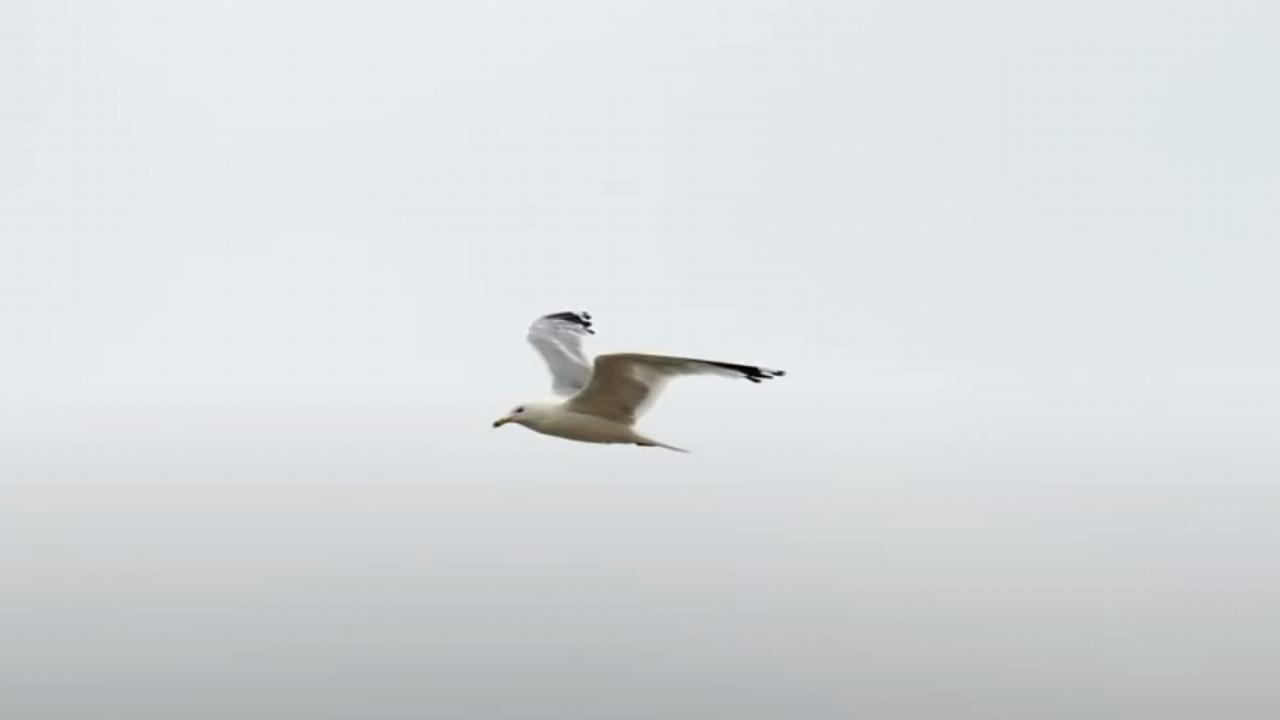Bird: (482, 303, 796, 463)
